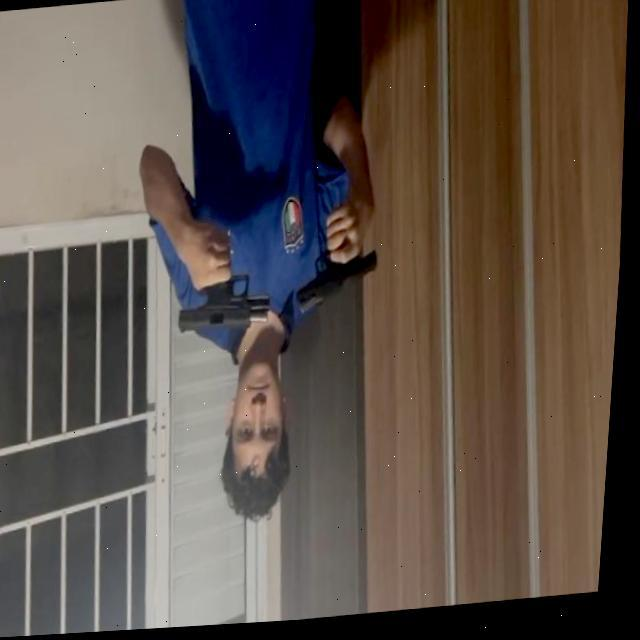gun: (296, 249, 384, 320), (180, 274, 277, 336)
